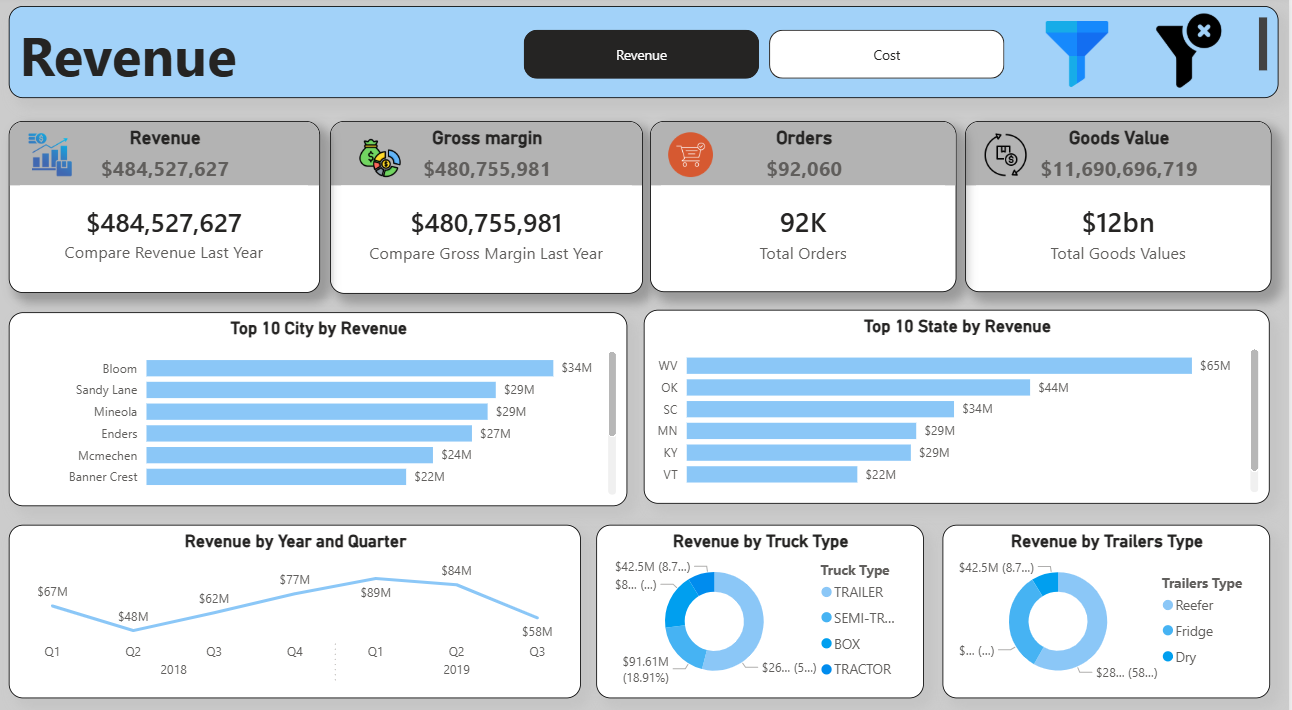

This screenshot's page, from the dashboard's own definition file:
{"tool":"powerbi","page":{"name":"Revenue","canvas":[1280,720],"ordinal":0},"visuals":[{"type":"group","id":"g1","title":"Group 2","box":[0,122.9,328.5,169.1],"z":0,"group":"g6"},{"type":"cardVisual","title":"Revenue","fields":{"Data":["Measure.compare revenue last year"]},"box":[23,122.9,305.4,169.1],"z":0,"group":"g1"},{"type":"group","id":"g2","title":"Group 3","box":[321.4,122.9,324.3,170],"z":0},{"type":"group","id":"g3","title":"Group 1","box":[321.4,122.9,324.1,169.4],"z":0,"group":"g2"},{"type":"cardVisual","title":"Gross margin","fields":{"Data":["Measure.Compare Gross Margin Last Year"]},"box":[338.1,122.9,307.4,169.4],"z":0,"group":"g3"},{"type":"group","id":"g4","title":"Group 2","box":[652.9,122.9,301.1,167.7],"z":0,"group":"g8"},{"type":"cardVisual","title":"Orders","fields":{"Data":["Measure.Total Orders"]},"box":[652.9,122.9,301.1,167.7],"z":0,"group":"g4"},{"type":"group","id":"g5","title":"Group 2","box":[961.4,122.9,301.1,167.7],"z":0,"group":"g7"},{"type":"cardVisual","title":"Goods Value","fields":{"Data":["Measure.Total Goods Values"]},"box":[961.4,122.9,301.1,167.7],"z":0,"group":"g5"},{"type":"group","id":"g6","title":"Group 5","box":[0,122.9,328.6,170],"z":1000},{"type":"image","box":[662.6,134.2,60.2,43.6],"z":1000,"group":"g8"},{"type":"image","box":[971.6,134.2,60.2,43.6],"z":1000,"group":"g7"},{"type":"image","box":[32.9,134.3,61.1,44],"z":1000,"group":"g6"},{"type":"image","box":[351.6,139.1,71.1,41.1],"z":1000,"group":"g2"},{"type":"cardVisual","fields":{"Data":["Measure.Arrow"]},"box":[0,199.4,92.9,59.1],"z":1000,"group":"g1"},{"type":"cardVisual","fields":{"Data":["Measure.GM Arrow"]},"box":[321.4,199.9,84.1,55.9],"z":1000,"group":"g3"},{"type":"group","id":"g7","title":"Group 5","box":[961.4,122.9,300,167.1],"z":2000},{"type":"group","id":"g8","title":"Group 5","box":[652.9,122.9,301.4,168.6],"z":3000},{"type":"textbox","box":[23.3,10,1246.7,90],"z":4000},{"type":"image","box":[1013.3,25,116.7,65],"z":5000},{"type":"image","box":[1130,17.1,102.9,72.9],"z":6000},{"type":"clusteredBarChart","title":"Top 10 City by Revenue","fields":{"Category":["d_client.City"],"Y":["Measure.Total Revenue"]},"box":[22.9,310,607.1,190],"z":7000},{"type":"lineChart","title":" Revenue by Year and Quarter","fields":{"Category":["Date.Year","Date.Quarter"],"Y":["Measure.Total Revenue"]},"box":[22.9,518.6,561.4,170],"z":8000},{"type":"clusteredBarChart","title":"Top 10 State by Revenue","fields":{"Category":["d_client.State"],"Y":["Measure.Total Revenue"]},"box":[647.1,308.6,614.3,190],"z":9000},{"type":"donutChart","title":" Revenue by Truck Type","fields":{"Category":["d_vehicle.Truck Type"],"Y":["Measure.Total Revenue"]},"box":[600,518.6,321.4,170],"z":10000},{"type":"donutChart","title":"Revenue by Trailers Type","fields":{"Category":["d_vehicle.Trailers Type"],"Y":["Measure.Total Revenue"]},"box":[940,518.6,321.4,170],"z":11000},{"type":"pageNavigator","box":[528.6,32.9,472.9,48.6],"z":13000}]}

Visuals, with their boxes in screenshot pixels (x1, y1, x2, y2), scaled from the page's 1280x720 canvas onto the 1292x710 screenshot:
"Group 2" group: [left=0, top=121, right=332, bottom=288]
"Revenue" cardVisual: [left=23, top=121, right=331, bottom=288]
"Group 3" group: [left=324, top=121, right=652, bottom=289]
"Group 1" group: [left=324, top=121, right=652, bottom=288]
"Gross margin" cardVisual: [left=341, top=121, right=652, bottom=288]
"Group 2" group: [left=659, top=121, right=963, bottom=287]
"Orders" cardVisual: [left=659, top=121, right=963, bottom=287]
"Group 2" group: [left=970, top=121, right=1274, bottom=287]
"Goods Value" cardVisual: [left=970, top=121, right=1274, bottom=287]
"Group 5" group: [left=0, top=121, right=332, bottom=289]
image: [left=669, top=132, right=730, bottom=175]
image: [left=981, top=132, right=1041, bottom=175]
image: [left=33, top=132, right=95, bottom=176]
image: [left=355, top=137, right=427, bottom=178]
cardVisual - Measure.Arrow: [left=0, top=197, right=94, bottom=255]
cardVisual - Measure.GM Arrow: [left=324, top=197, right=409, bottom=252]
"Group 5" group: [left=970, top=121, right=1273, bottom=286]
"Group 5" group: [left=659, top=121, right=963, bottom=287]
textbox: [left=24, top=10, right=1282, bottom=99]
image: [left=1023, top=25, right=1141, bottom=89]
image: [left=1141, top=17, right=1244, bottom=89]
"Top 10 City by Revenue" clusteredBarChart: [left=23, top=306, right=636, bottom=493]
" Revenue by Year and Quarter" lineChart: [left=23, top=511, right=590, bottom=679]
"Top 10 State by Revenue" clusteredBarChart: [left=653, top=304, right=1273, bottom=492]
" Revenue by Truck Type" donutChart: [left=606, top=511, right=930, bottom=679]
"Revenue by Trailers Type" donutChart: [left=949, top=511, right=1273, bottom=679]
pageNavigator: [left=534, top=32, right=1011, bottom=80]
